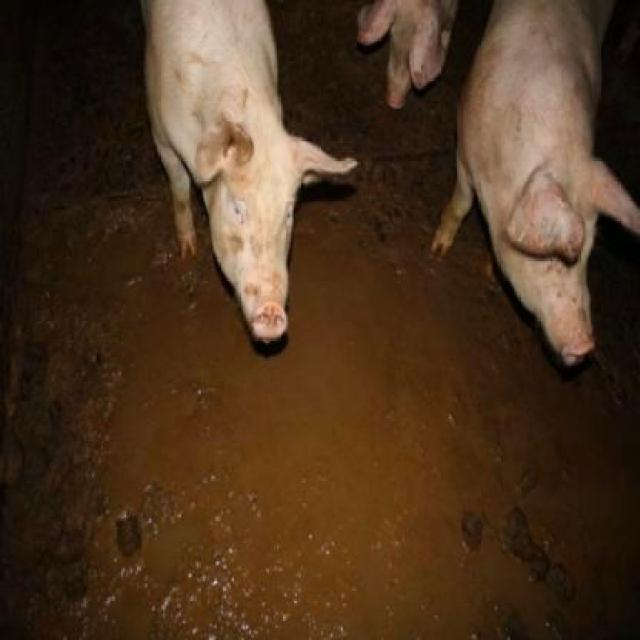Boar: (427, 0, 640, 367), (138, 0, 358, 343), (357, 0, 457, 109)
